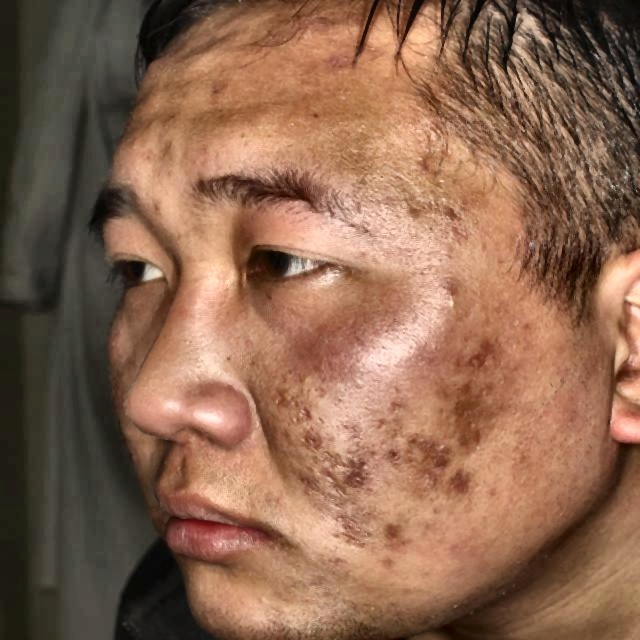pustule: (445, 464, 486, 511), (331, 452, 377, 493), (456, 396, 498, 432), (465, 334, 502, 373), (294, 417, 334, 448), (372, 523, 407, 552), (404, 432, 438, 460), (446, 425, 484, 450)
